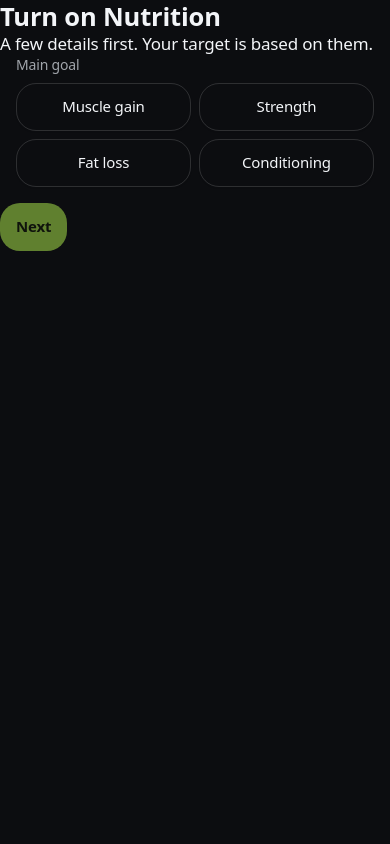
Scenario: NutritionSetup › asks for the goal first when the profile has none
Check: the text "Main goal" is shown, box [16,55,80,74]
Check: the button "Next" is disabled, box [0,203,67,251]
What coordinates should you click on to do the following:
click the radio button labelled "Fat loss"
I would click on:
 (104, 163)
Its box is [16,139,191,187].
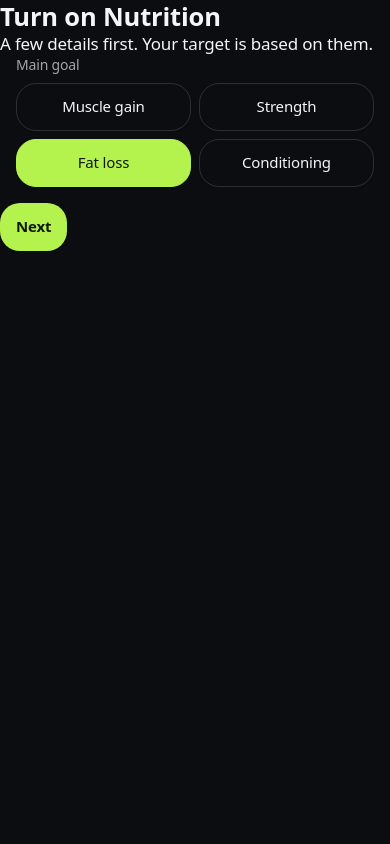
What coordinates should you click on to do the following:
click the button "Next"
I would click on:
 (34, 227)
Its box is [0,203,67,251].
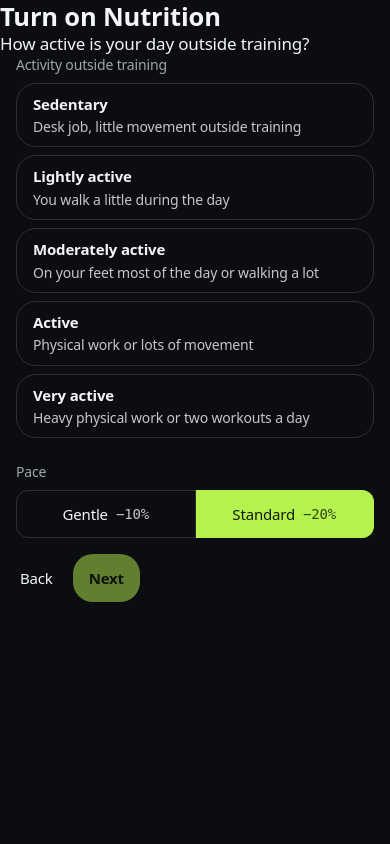
Check: the radio button labelled "Sedentary Desk job, little movement outside training" is shown, box [16,83,374,148]
